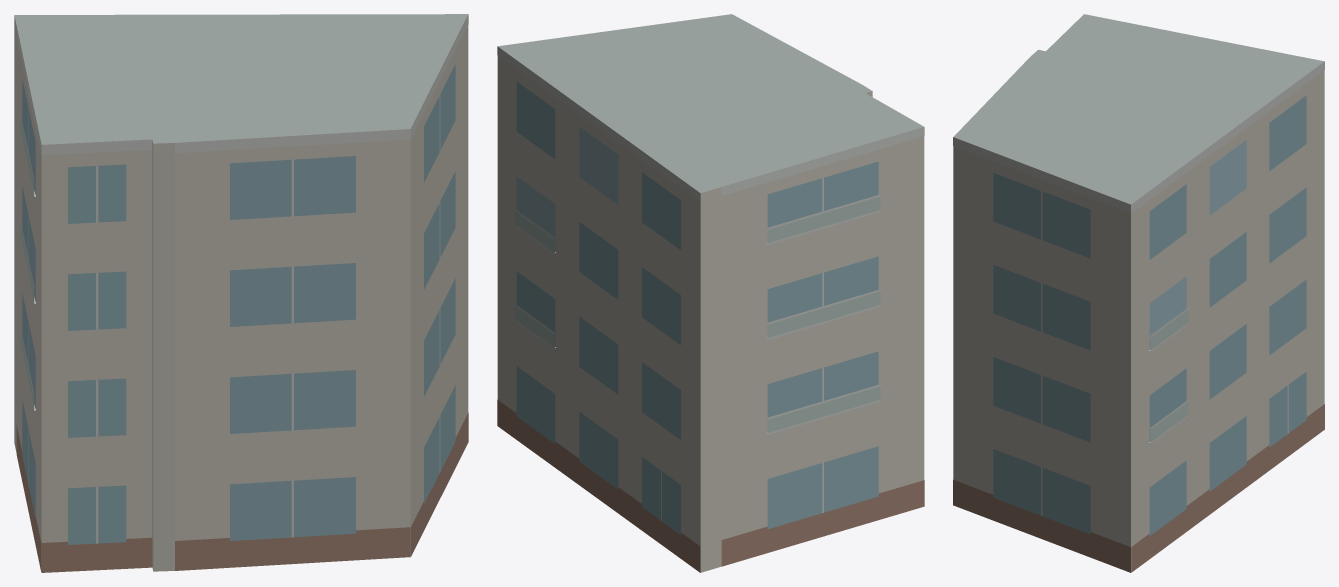
The model's file is survey-upis-32749968.glb.
The picture shows the model from 3 angles, left to right: view 1: azimuth 30°, elevation 25°; view 2: azimuth 150°, elevation 25°; view 3: azimuth 270°, elevation 25°; orthographic projection. The views are drawn at different scales.
Parts seen in each view (by area): view 1: survey-upis-32749968.tmp; view 2: survey-upis-32749968.tmp; view 3: survey-upis-32749968.tmp.
Boxes of the visible parts, box(x1,y1,x2,y2) form: survey-upis-32749968.tmp: box(14, 14, 468, 572); survey-upis-32749968.tmp: box(497, 14, 924, 572); survey-upis-32749968.tmp: box(953, 14, 1324, 572).
Size of the model in its own units: 11.22 by 10.1 by 9.24.
